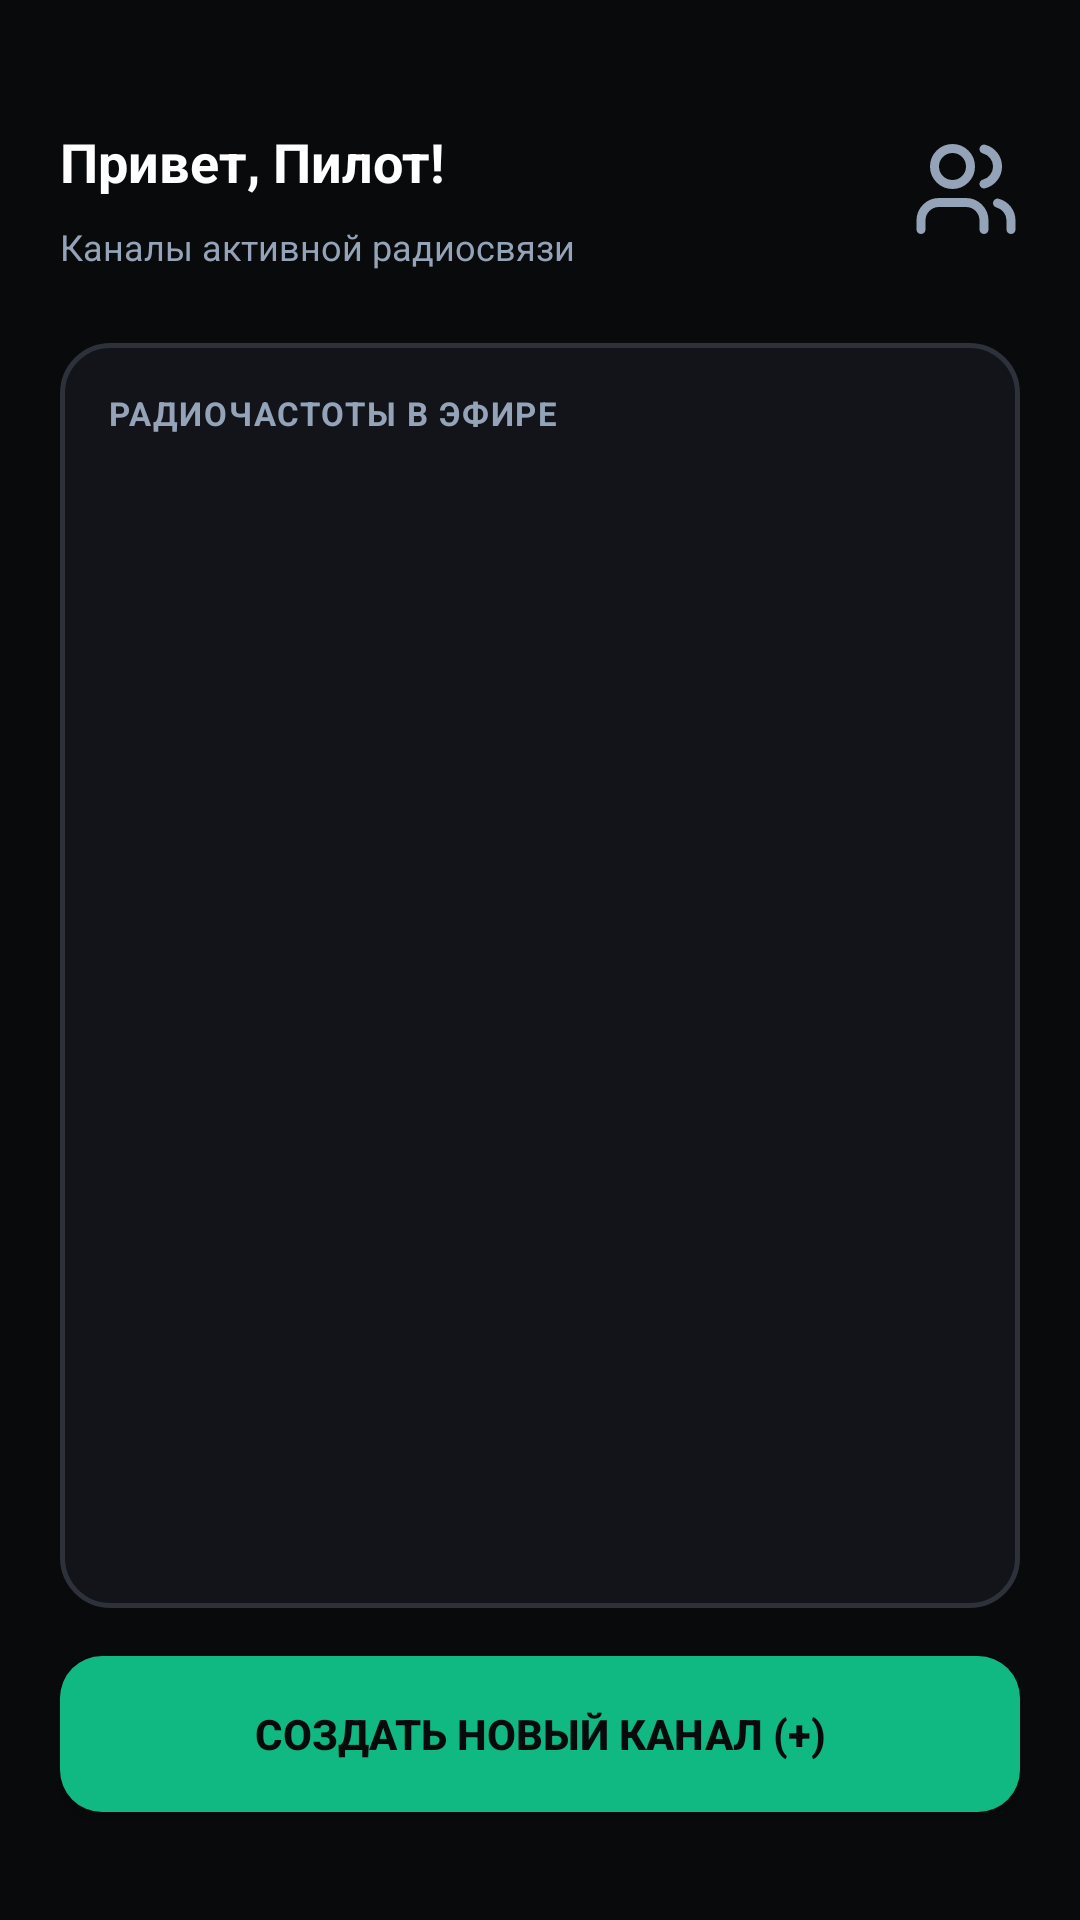

Icon bounding boxes for this 1080w x 1920h phone screenshot, format (x1, y1, x2, y2):
Users Icon: (916, 144, 1016, 234)
